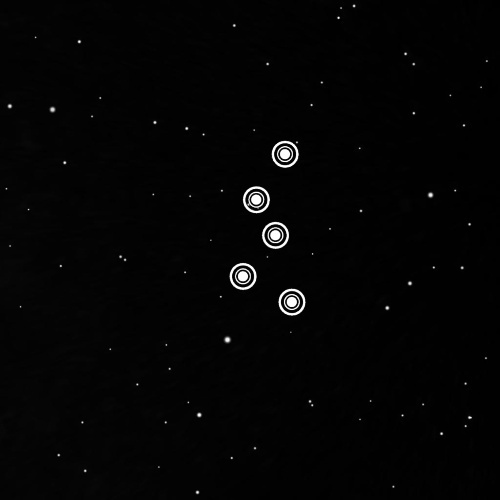cassiopeia: (219, 132, 317, 321)
